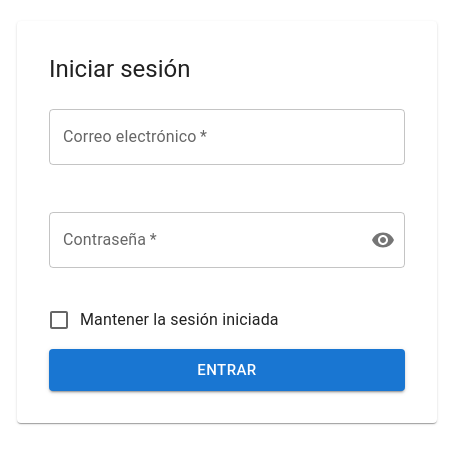
Test case: LoginPage › FE-LOG-05 credenciales inválidas muestran alerta accesible y no guardan sesión
Type "a@b.com" into the field labelled "Correo electrónico *" at point(227, 137), box [49,109,405,165]
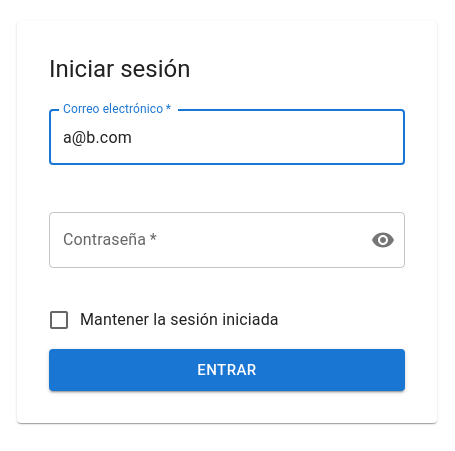
Type "mala" into the password field labelled "Contraseña *" at point(202, 240), box [49,212,355,268]
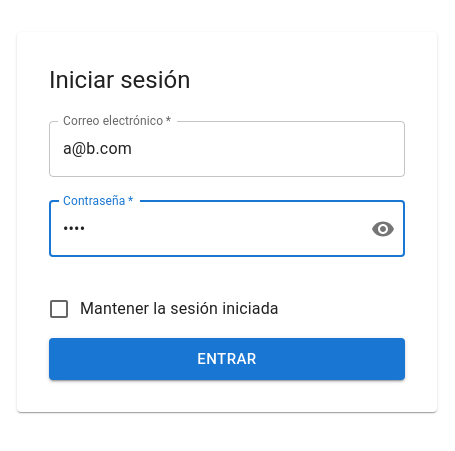
Click the button "Entrar" at point(227, 359), box [49,338,405,380]
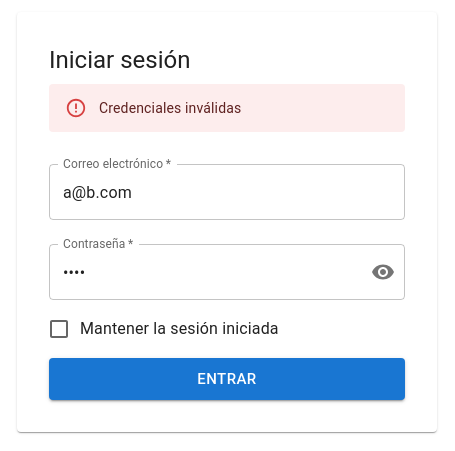
expect the message reads "Credenciales inválidas": met, box [99,100,241,116]
